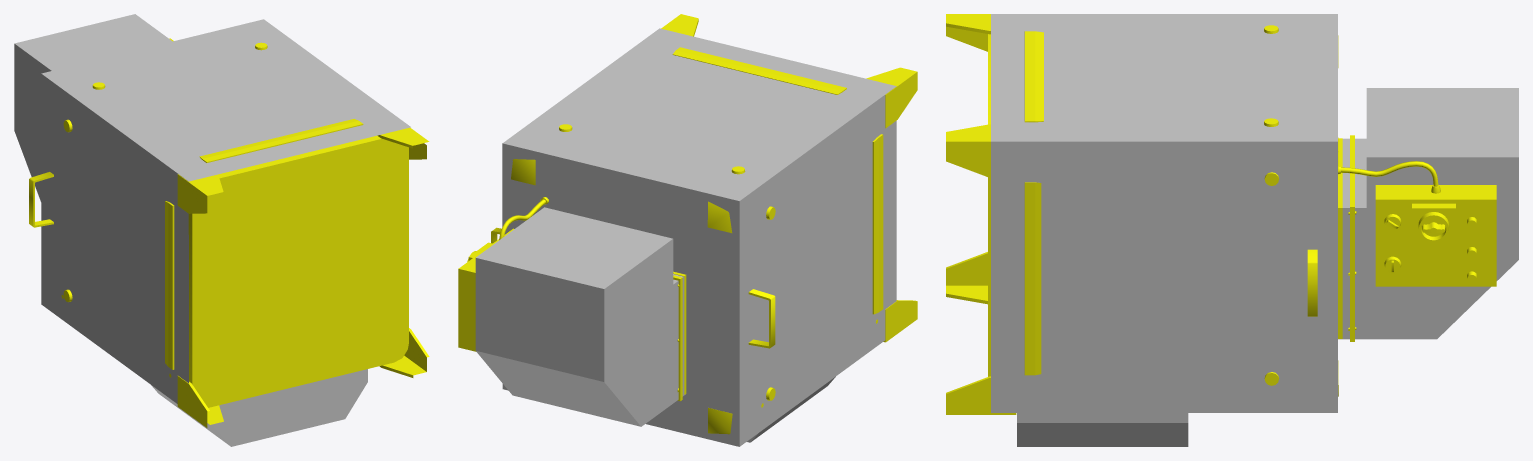
The model's file is sm_hana_bas_precision_ac.glb.
3 views of the same model, side by side, from view 1: azimuth 30°, elevation 25°; view 2: azimuth 150°, elevation 25°; view 3: azimuth 270°, elevation 25° (orthographic). The views are drawn at different scales.
Parts seen in each view (by area): view 1: sm_color_common, sm_hana_bas_precision_ac; view 2: sm_color_common, sm_hana_bas_precision_ac; view 3: sm_color_common, sm_hana_bas_precision_ac.
Boxes of the visible parts, x1,y1,x2,y2 form: sm_color_common: (14,14,410,446); sm_hana_bas_precision_ac: (29,38,429,427); sm_color_common: (475,28,896,446); sm_hana_bas_precision_ac: (458,14,917,434); sm_color_common: (991,14,1518,446); sm_hana_bas_precision_ac: (946,14,1496,414).
Size of the model in its own units: 1.47 by 1.54 by 2.35.
Materials: 2 (1 with a texture image).
